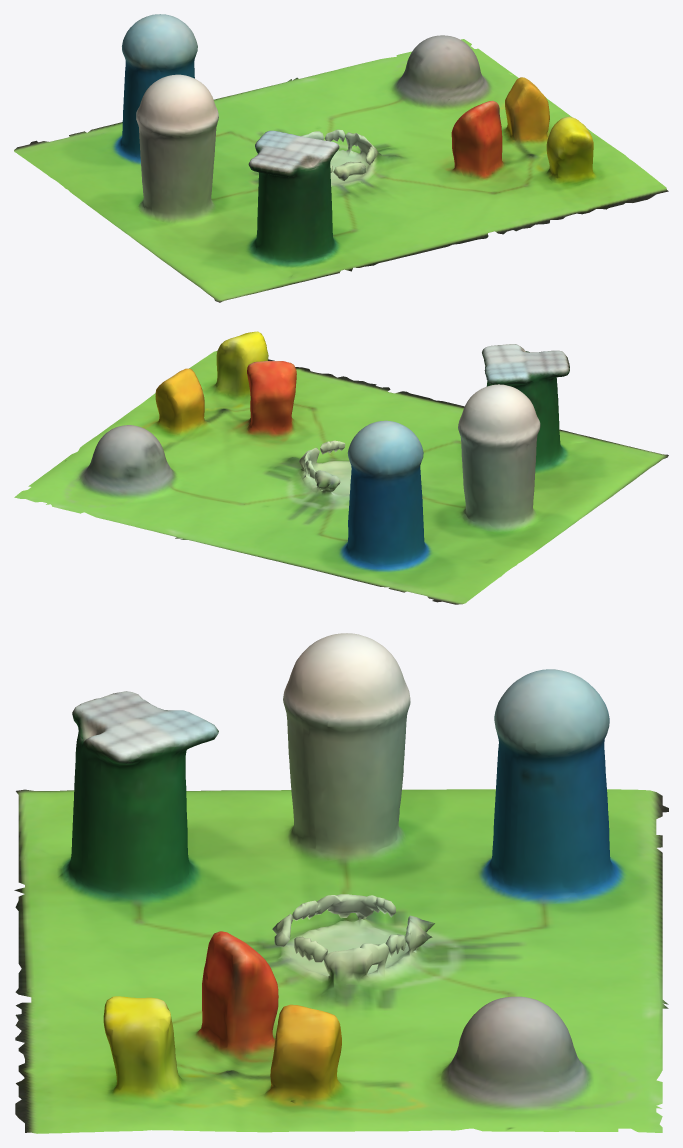
Rendered from newOrleans.glb.
3 views of the same model, one above another, from view 1: azimuth 30°, elevation 25°; view 2: azimuth 150°, elevation 25°; view 3: azimuth 270°, elevation 25° (orthographic). The views are drawn at different scales.
Visible parts, largest first — view 1: Model; view 2: Model; view 3: Model.
Part boxes in pixels (left/top/right/bottom): Model: left=14, top=14, right=668, bottom=302; Model: left=14, top=331, right=668, bottom=604; Model: left=14, top=633, right=668, bottom=1133.
Bounding box in the file's own units: 0.3855 × 0.1164 × 0.3112.
1 material, 1 textured.
